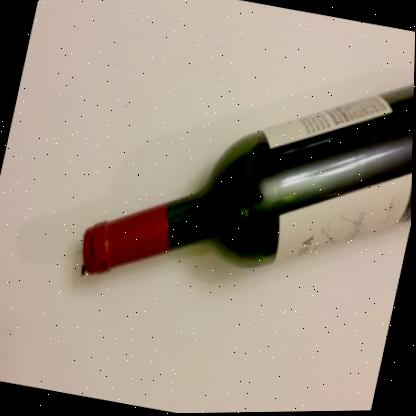Glass: (81, 96, 414, 273)
